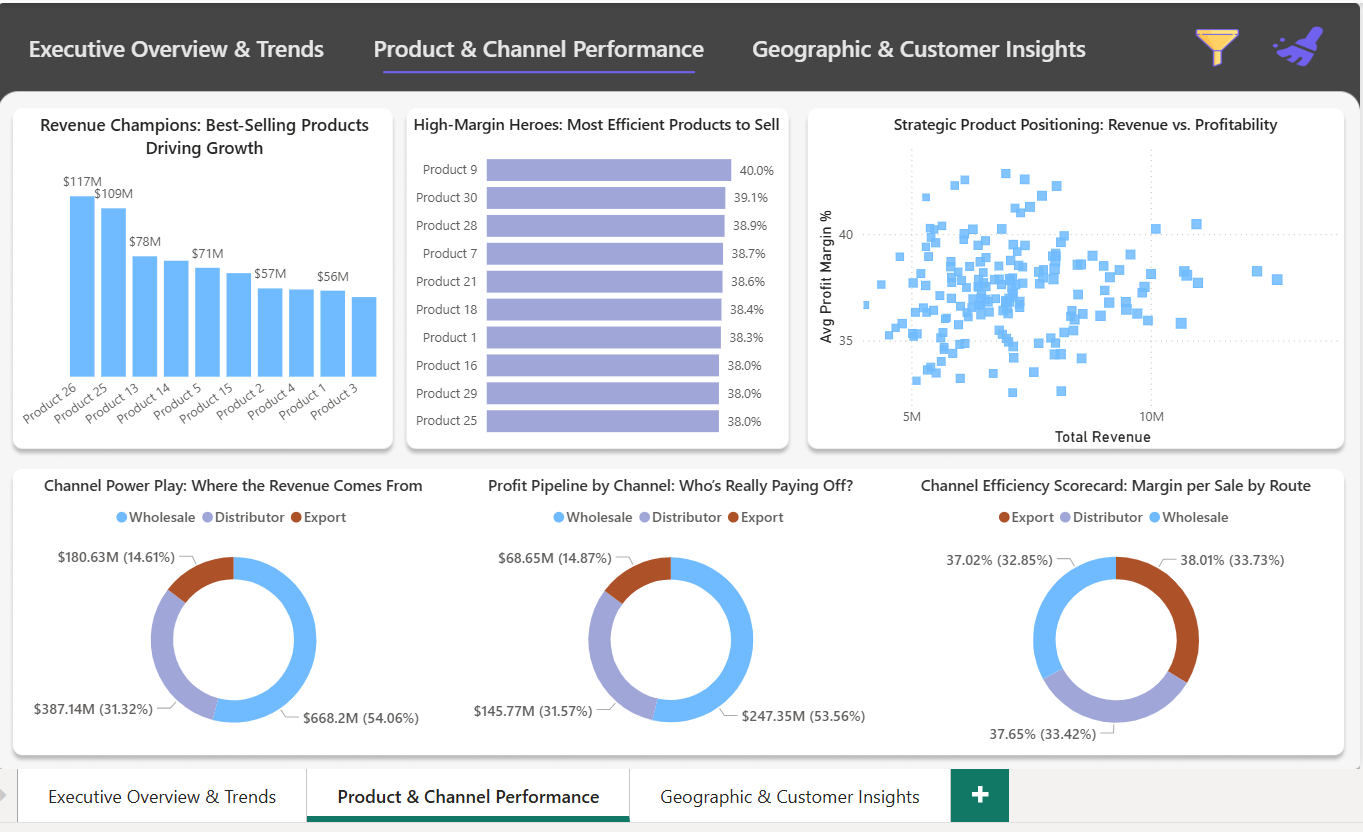

This screenshot's page, from the dashboard's own definition file:
{"tool":"powerbi","page":{"name":"Product & Channel Performance","canvas":[1280,720],"ordinal":1},"visuals":[{"type":"columnChart","title":"Revenue Champions: Best-Selling Products Driving Growth","fields":{"Category":["Sales_data.product_name"],"Y":["Measures_.Total Revenue"]},"box":[16,103,357,316],"z":0},{"type":"scatterChart","title":"Strategic Product Positioning: Revenue vs. Profitability","fields":{"X":["Customer Summary.Total Revenue"],"Y":["Customer Summary.Avg Profit Margin %"],"Size":["Sum(Customer Summary.Order Count)"]},"box":[764,103,516,317],"z":1000},{"type":"clusteredBarChart","title":"High-Margin Heroes: Most Efficient Products to Sell","fields":{"Category":["Sales_data.product_name"],"Y":["Measures_.Profit Margin %"]},"box":[382,103,361,316],"z":2000},{"type":"donutChart","title":"Channel Power Play: Where the Revenue Comes From","fields":{"Category":["Sales_data.channel"],"Y":["Measures_.Total Revenue"]},"box":[16.7,443.3,408.3,261.7],"z":3000},{"type":"donutChart","title":"Profit Pipeline by Channel: Who’s Really Paying Off?","fields":{"Category":["Sales_data.channel"],"Y":["Measures_.Total Profit"]},"box":[436.7,443.3,390,261.7],"z":4000},{"type":"donutChart","title":"Channel Efficiency Scorecard: Margin per Sale by Route","fields":{"Category":["Sales_data.channel"],"Y":["Measures_.Profit Margin %"]},"box":[843.3,443.3,415,261.7],"z":5000},{"type":"actionButton","box":[337.2,14.1,342.3,55.1],"z":6000},{"type":"actionButton","box":[9,14.1,317.9,55.1],"z":7000},{"type":"actionButton","box":[695,13.8,341.2,55],"z":8000},{"type":"actionButton","box":[1188,14,70,55],"z":9000},{"type":"actionButton","box":[1120,21,53,42],"z":10000}]}

Visuals, with their boxes on the page's 1280x720 design canvas (x1, y1, x2, y2). These are canvas units, not pixel positions in the 1363x832 screenshot, which may show the page scaled, cropped or inside an application window:
"Revenue Champions: Best-Selling Products Driving Growth" columnChart: 16, 103, 373, 419
"Strategic Product Positioning: Revenue vs. Profitability" scatterChart: 764, 103, 1280, 420
"High-Margin Heroes: Most Efficient Products to Sell" clusteredBarChart: 382, 103, 743, 419
"Channel Power Play: Where the Revenue Comes From" donutChart: 17, 443, 425, 705
"Profit Pipeline by Channel: Who’s Really Paying Off?" donutChart: 437, 443, 827, 705
"Channel Efficiency Scorecard: Margin per Sale by Route" donutChart: 843, 443, 1258, 705
actionButton: 337, 14, 680, 69
actionButton: 9, 14, 327, 69
actionButton: 695, 14, 1036, 69
actionButton: 1188, 14, 1258, 69
actionButton: 1120, 21, 1173, 63
